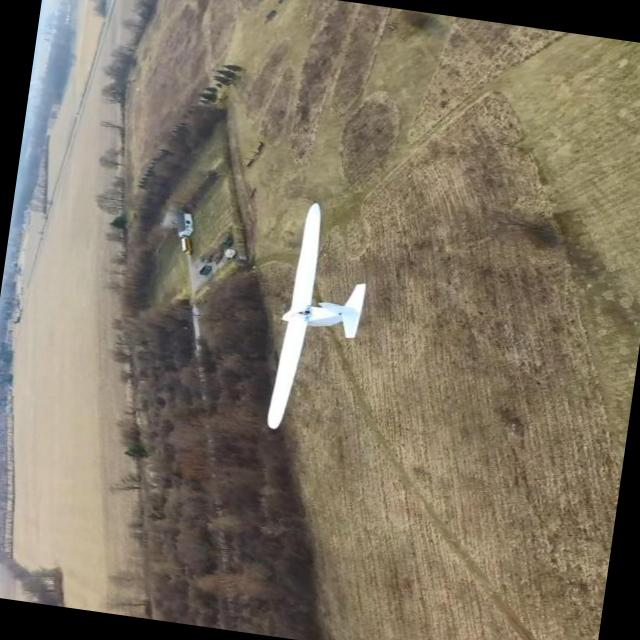UAV: (227, 203, 428, 495)
